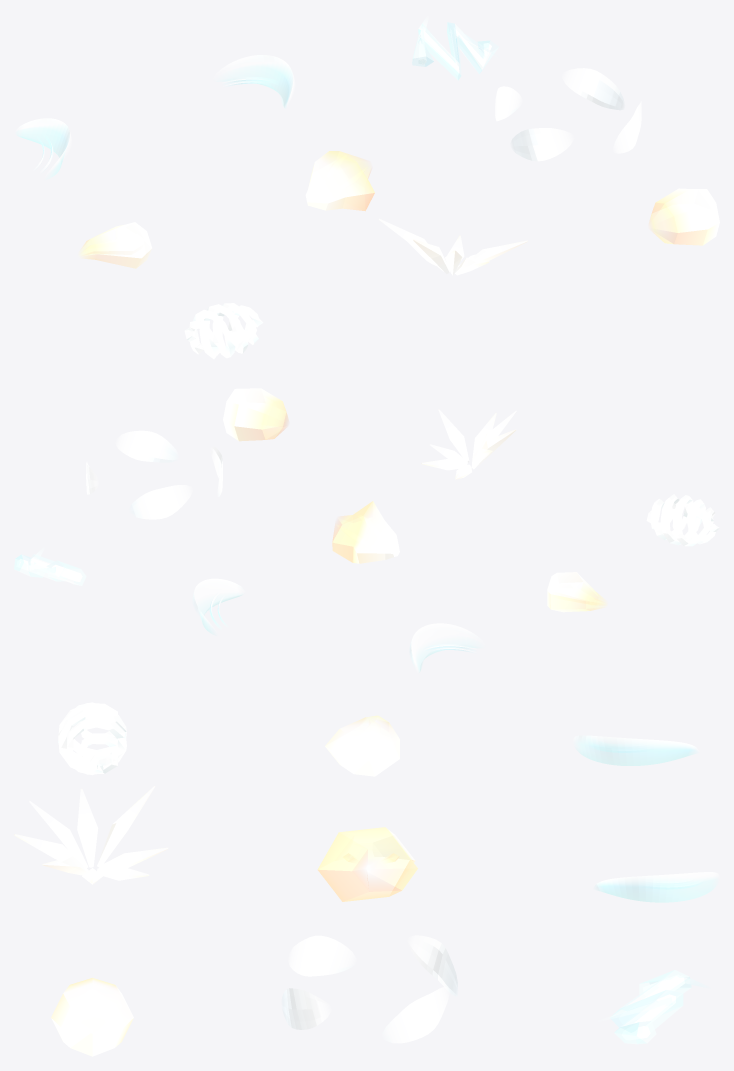
Rendered from battle-effects.glb.
3 renders of one model, top to bottom at view 1: azimuth 30°, elevation 25°; view 2: azimuth 150°, elevation 25°; view 3: azimuth 270°, elevation 25°, orthographic. The views are drawn at different scales.
Parts seen in each view (by area): view 1: FluxRing, HeatJet, EnemyRound, FluxTether, ArcLink, RivetTracer, HookRibbon, StrikeBurst, SwingRibbon; view 2: FluxRing, HeatJet, EnemyRound, FluxTether, StrikeBurst, SwingRibbon, RivetTracer, HookRibbon, ArcLink; view 3: FluxRing, HeatJet, StrikeBurst, EnemyRound, FluxTether, ArcLink, RivetTracer, HookRibbon, SwingRibbon.
Boxes of the visible parts, x1,y1,x2,y2 form: FluxRing: (495, 68, 641, 161); HeatJet: (305, 151, 374, 211); EnemyRound: (649, 188, 719, 245); FluxTether: (184, 303, 263, 359); ArcLink: (412, 16, 498, 80); RivetTracer: (79, 222, 152, 268); HookRibbon: (216, 55, 294, 107); StrikeBurst: (379, 218, 527, 275); SwingRibbon: (16, 118, 71, 178); FluxRing: (86, 430, 222, 519); HeatJet: (332, 501, 399, 563); EnemyRound: (223, 388, 288, 441); FluxTether: (646, 494, 719, 546); StrikeBurst: (421, 409, 516, 479); SwingRibbon: (409, 623, 482, 672); RivetTracer: (547, 572, 606, 612); HookRibbon: (193, 578, 244, 634); ArcLink: (14, 548, 86, 585); FluxRing: (281, 935, 457, 1043); HeatJet: (317, 827, 417, 901); StrikeBurst: (14, 786, 168, 884); EnemyRound: (51, 978, 133, 1056); FluxTether: (58, 702, 126, 775); ArcLink: (602, 970, 708, 1044); RivetTracer: (325, 715, 399, 776); HookRibbon: (594, 872, 718, 902); SwingRibbon: (573, 735, 698, 765).
Bounding box in the file's own units: 8.52 × 1.14 × 7.65.
